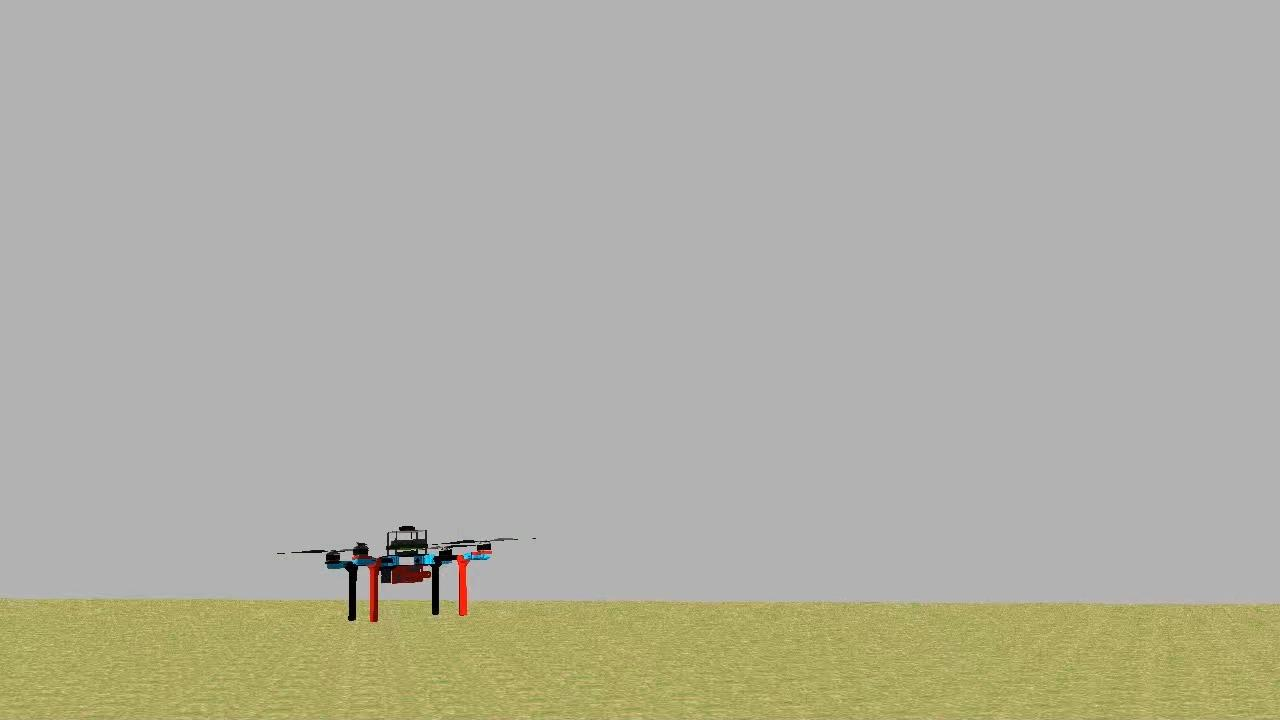UAV: (316, 517, 497, 621)
